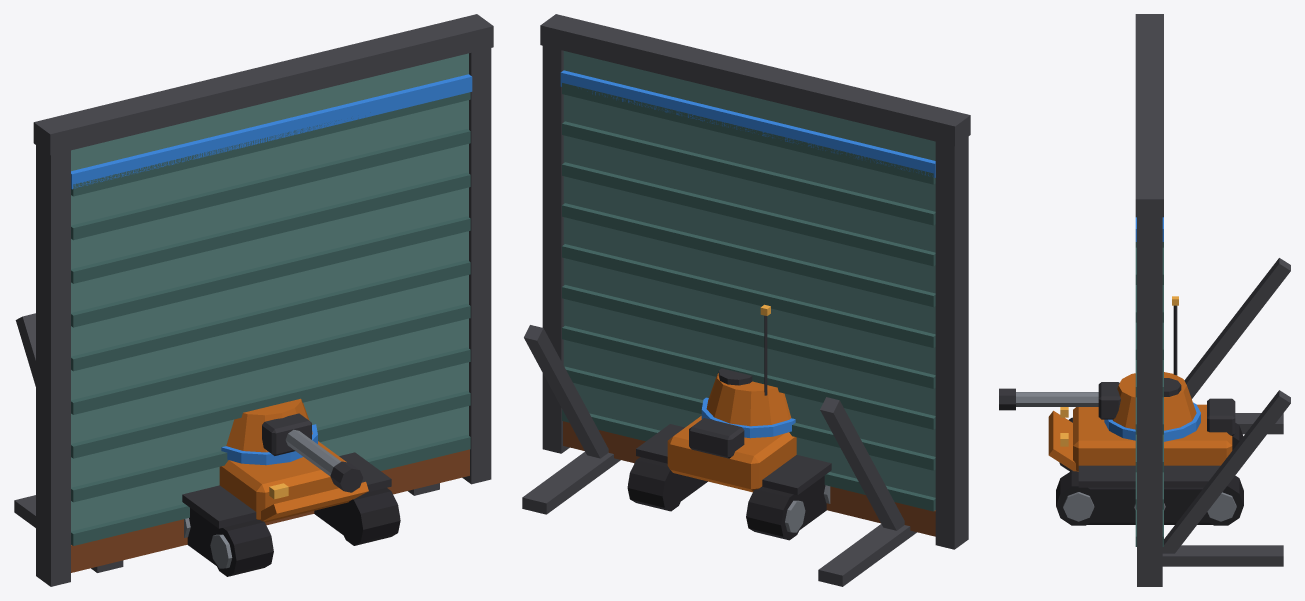
Rendered from PROPS.glb.
3 views of the same model, side by side, from view 1: azimuth 30°, elevation 25°; view 2: azimuth 150°, elevation 25°; view 3: azimuth 270°, elevation 25° (orthographic). The views are drawn at different scales.
Parts seen in each view (by area): view 1: PROP_DoorMesh, PROP_TurretBase, PROP_TurretHead.001; view 2: PROP_DoorMesh, PROP_TurretBase, PROP_TurretHead.001; view 3: PROP_DoorMesh, PROP_TurretBase, PROP_TurretHead.001.
Boxes of the visible parts, x1,y1,x2,y2 form: PROP_DoorMesh: (14,14,493,586); PROP_TurretBase: (182,441,400,576); PROP_TurretHead.001: (221,398,362,492); PROP_DoorMesh: (522,14,970,586); PROP_TurretBase: (627,416,831,540); PROP_TurretHead.001: (701,304,795,438); PROP_DoorMesh: (1135,14,1290,586); PROP_TurretBase: (1048,398,1243,525); PROP_TurretHead.001: (999,296,1200,441).
Size of the model in its own units: 1.54 by 1.51 by 1.03.
